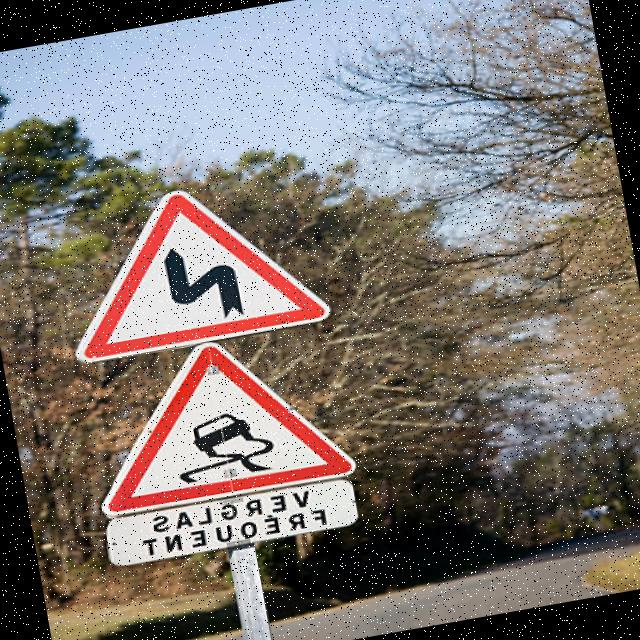road_slippery: (67, 316, 354, 524)
